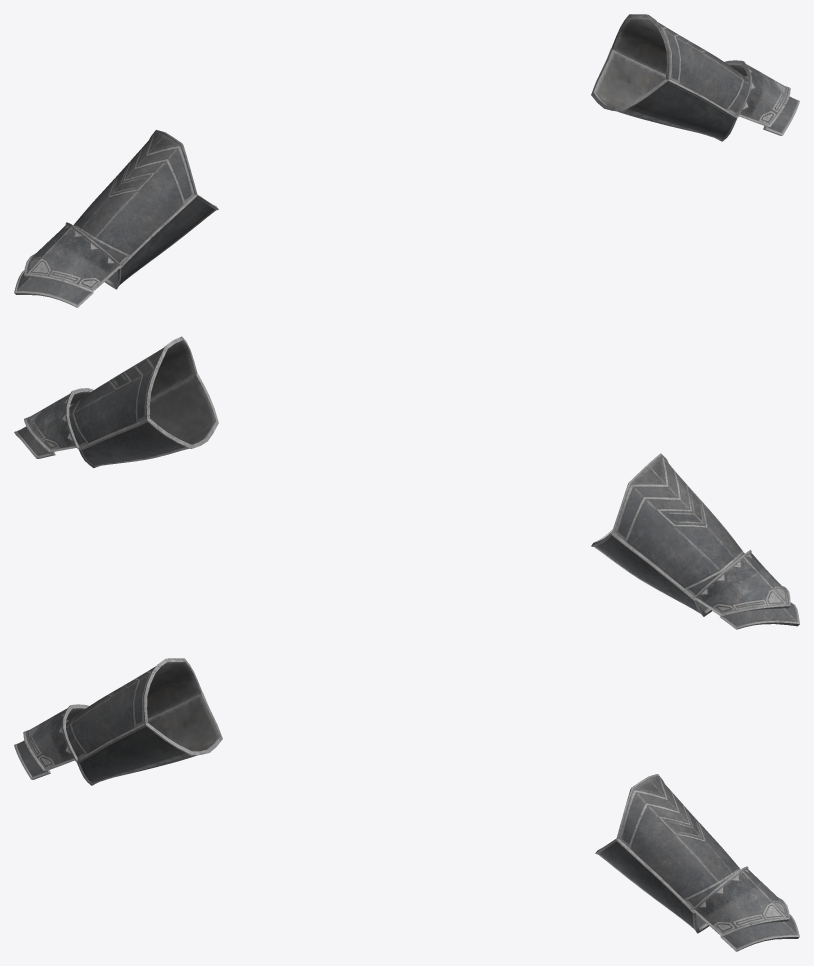
Rendered from sk_dwarf_erebor_bracers_elite_a.fbx.
3 renders of one model, top to bottom at view 1: azimuth 30°, elevation 25°; view 2: azimuth 150°, elevation 25°; view 3: azimuth 330°, elevation 25°, orthographic.
Visible parts, largest first — view 1: sk_dwarf_erebor_bracers_elite_a; view 2: sk_dwarf_erebor_bracers_elite_a; view 3: sk_dwarf_erebor_bracers_elite_a.
Part boxes in pixels (<box>): sk_dwarf_erebor_bracers_elite_a: <box>14,14,799,307</box>; sk_dwarf_erebor_bracers_elite_a: <box>14,336,799,629</box>; sk_dwarf_erebor_bracers_elite_a: <box>14,658,799,951</box>.
Bounding box in the file's own units: 1.39 × 0.1647 × 0.227.
Materials: 1 (1 with a texture image).
